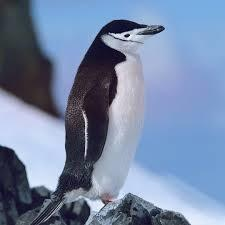chinstrap: (39, 0, 164, 225)
